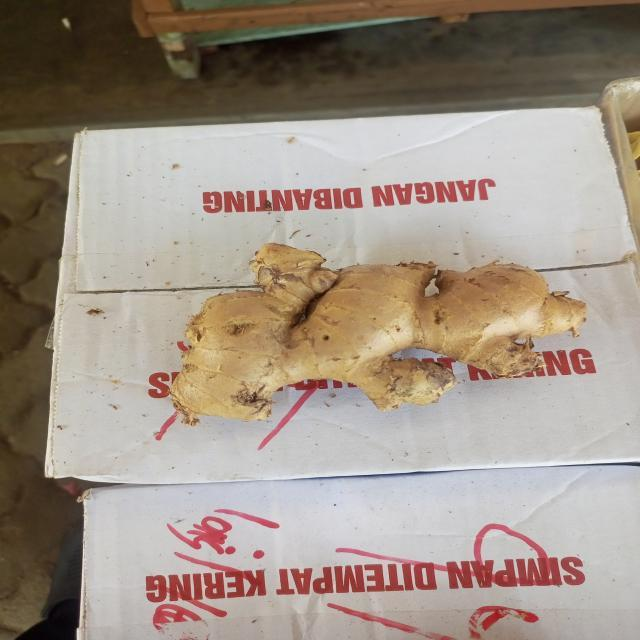ginger: (188, 246, 577, 417)
